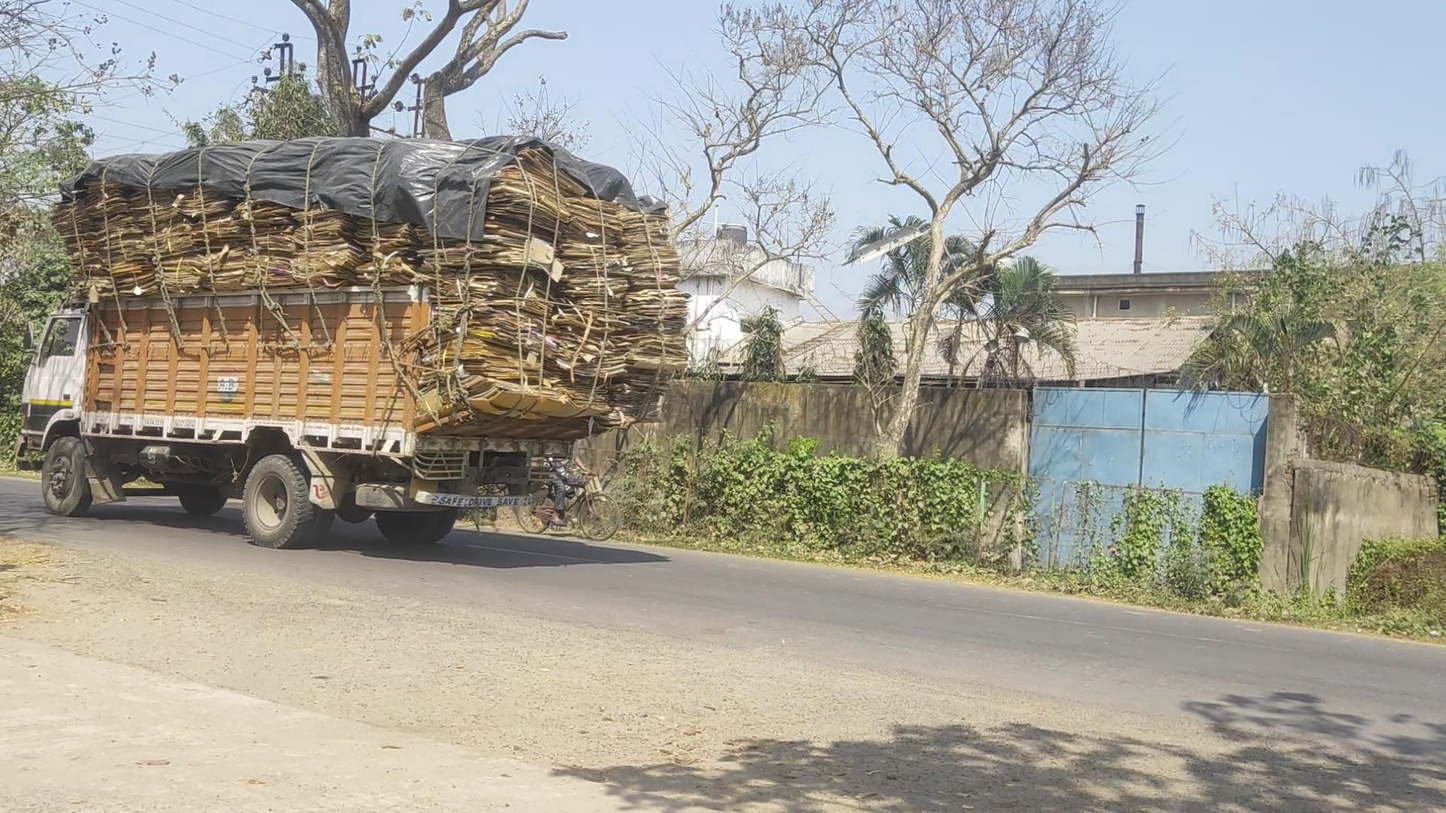bike: (514, 429, 619, 540)
truck: (18, 135, 689, 552)
